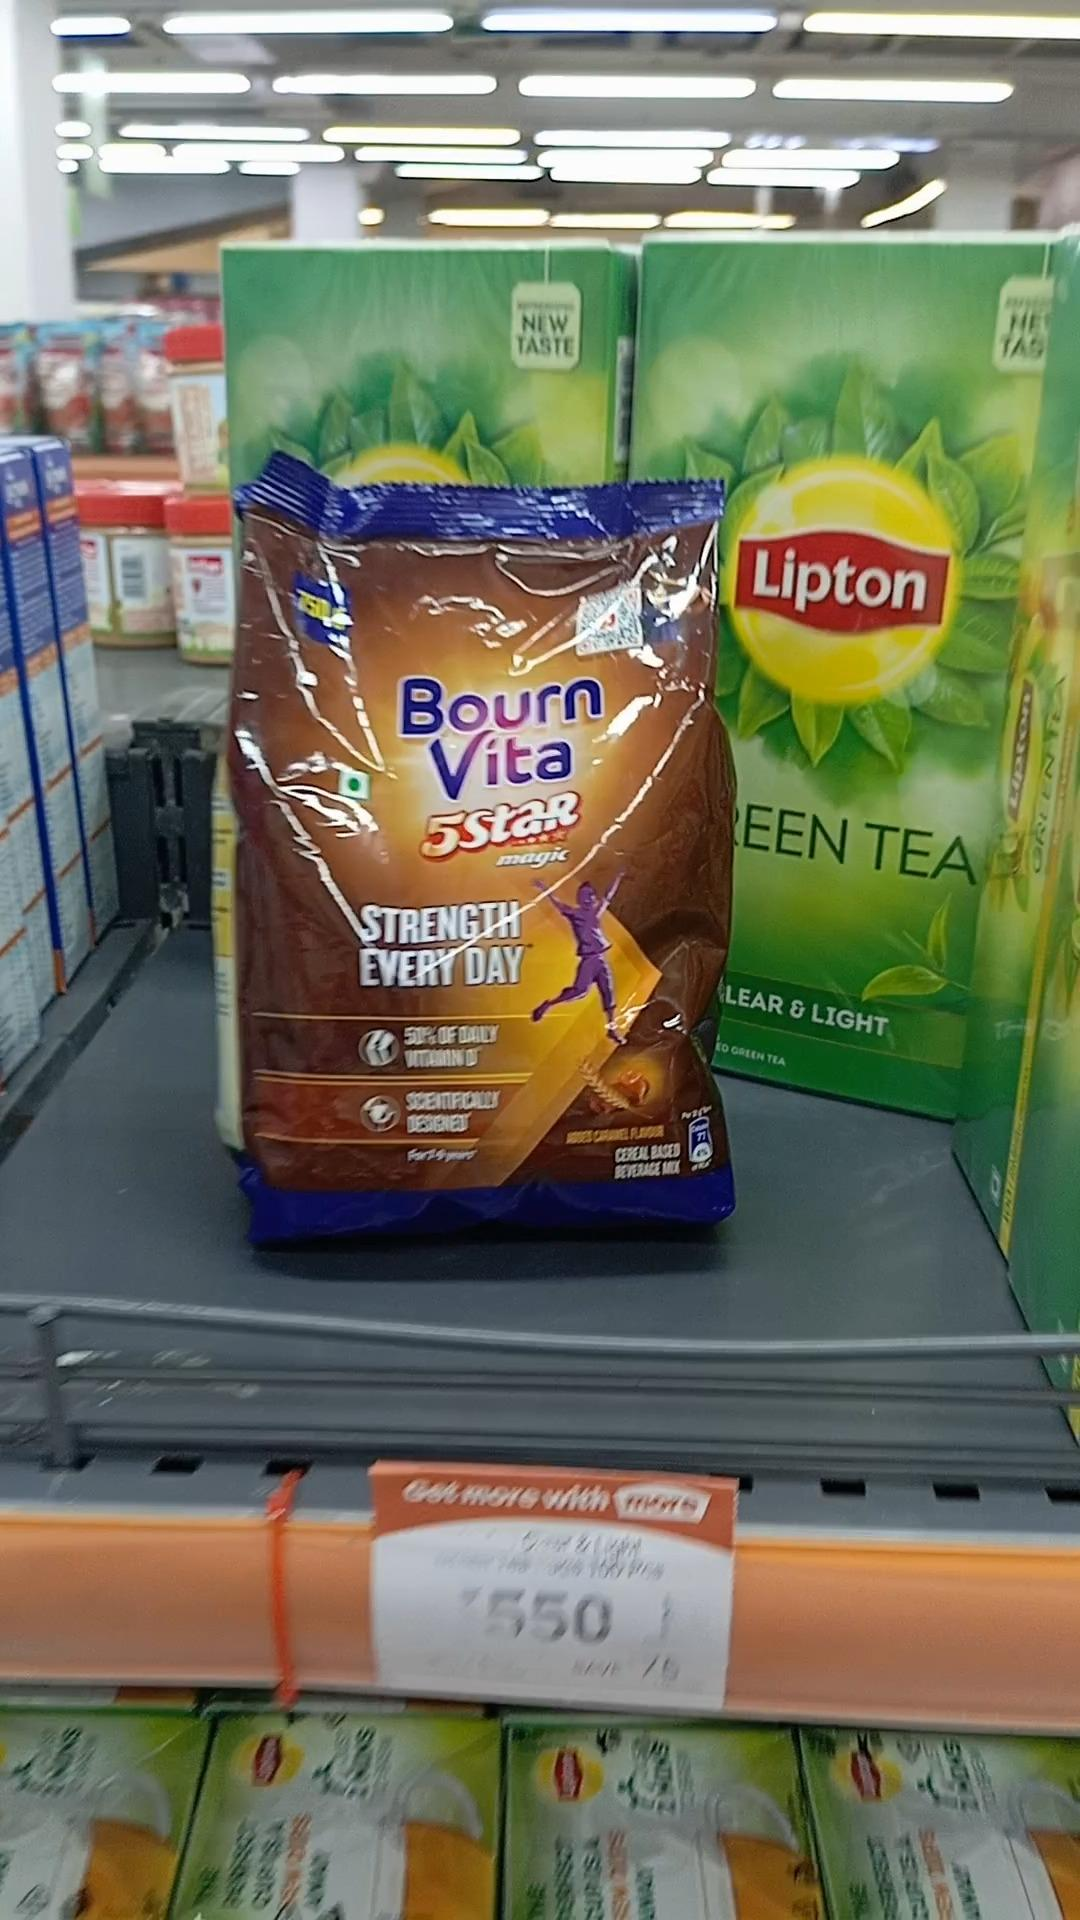BOURN_VITA_FIVE_STAR_MAGIC_750_G_POUCH: (225, 448, 742, 1258)
